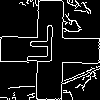F: (25, 25, 56, 72)
